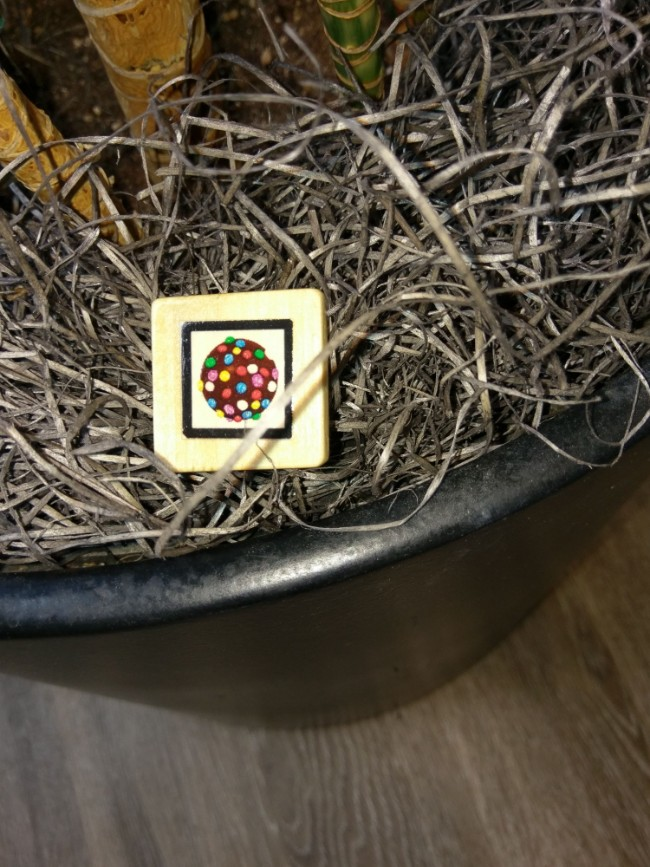cookie: (159, 314, 318, 452)
